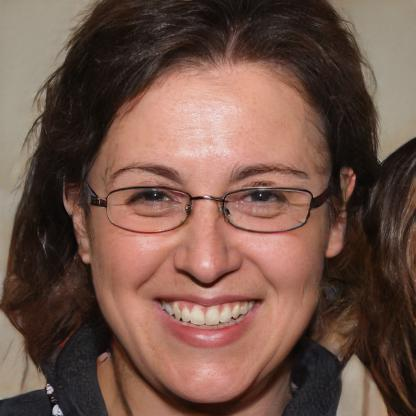glasses: (89, 176, 325, 243)
